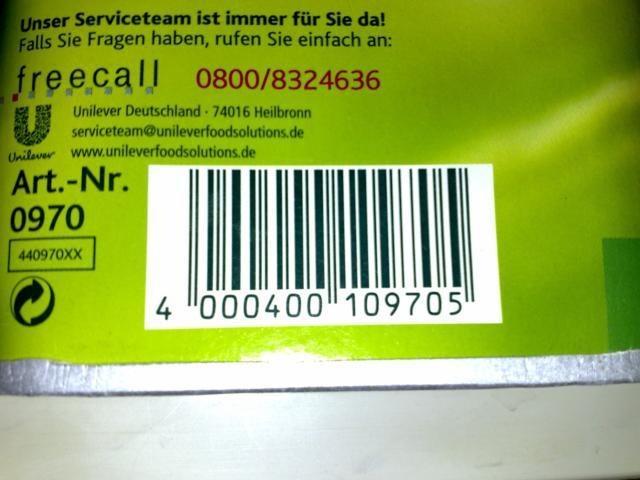Barcode: (151, 165, 481, 327)
